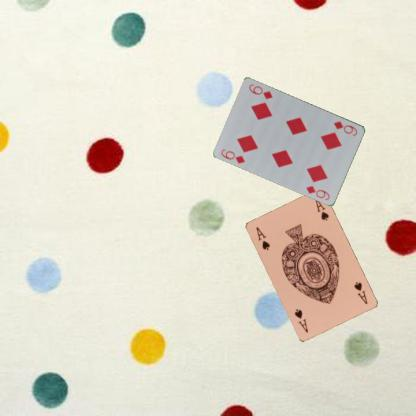6d: (218, 146, 247, 165), (331, 118, 359, 137)
As: (253, 224, 271, 252), (351, 279, 369, 306)
